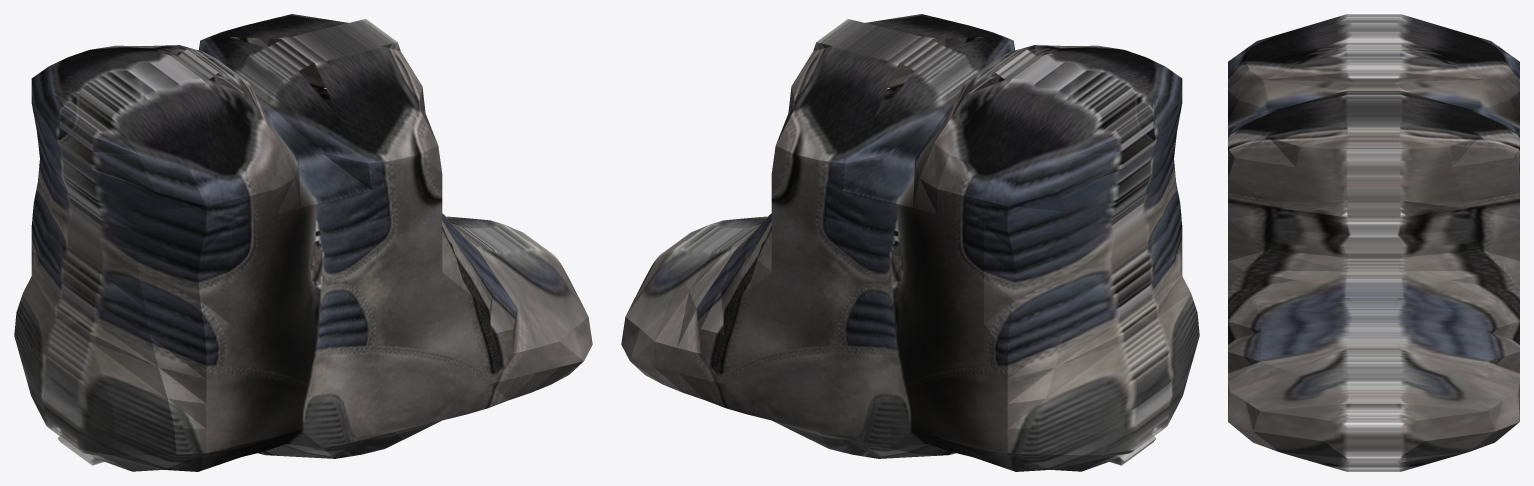
File: sena-vector-riding-boot-116.glb
3 views of the same model, side by side, from view 1: azimuth 30°, elevation 25°; view 2: azimuth 150°, elevation 25°; view 3: azimuth 270°, elevation 25° (orthographic). The views are drawn at different scales.
Visible parts, largest first — view 1: world; view 2: world; view 3: world.
Boxes of the visible parts, x1,y1,x2,y2 form: world: (14,14,592,471); world: (621,14,1199,471); world: (1228,14,1519,471).
Size of the model in its own units: 1 by 0.7645 by 0.62.
Materials: 1 (1 with a texture image).
